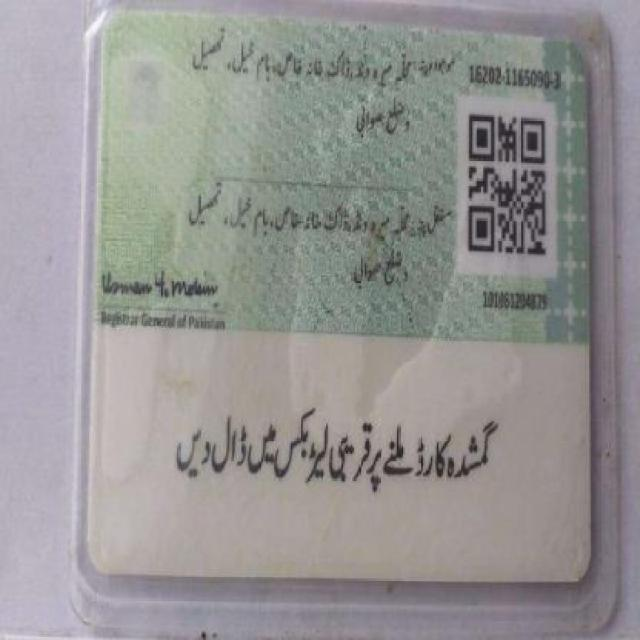Back: (77, 3, 600, 600)
